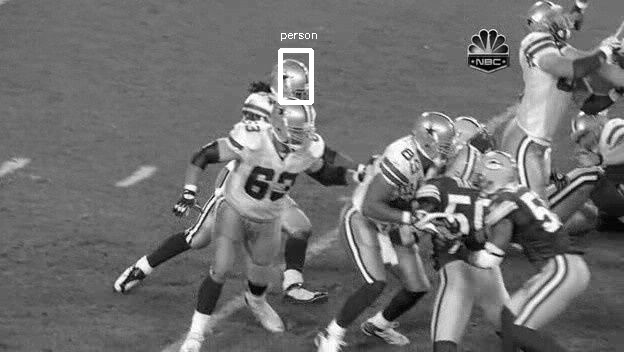person: (278, 60, 312, 104), (277, 60, 311, 104), (279, 60, 313, 104), (278, 59, 312, 103), (278, 61, 312, 105)
target_negative: (327, 271, 587, 343), (284, 47, 341, 352), (501, 198, 599, 321), (346, 247, 446, 336), (545, 144, 582, 289), (104, 292, 205, 337)
